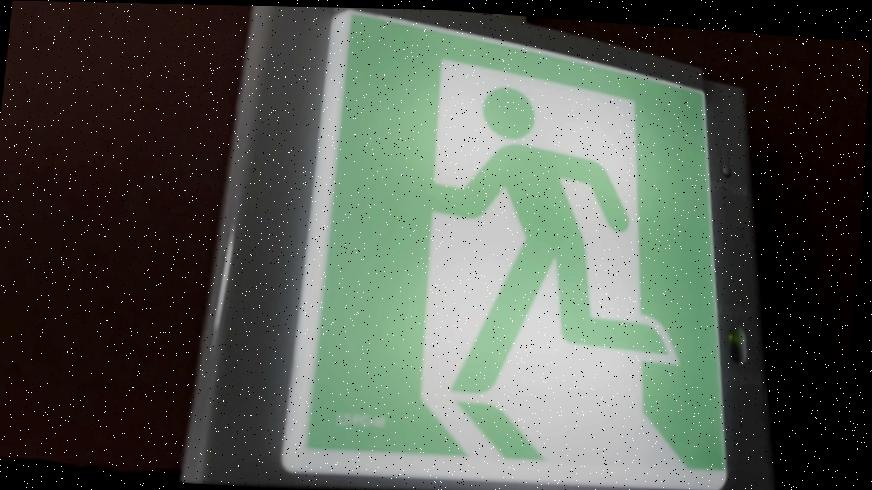emergency_exit: (179, 6, 768, 488), (276, 10, 738, 485)
